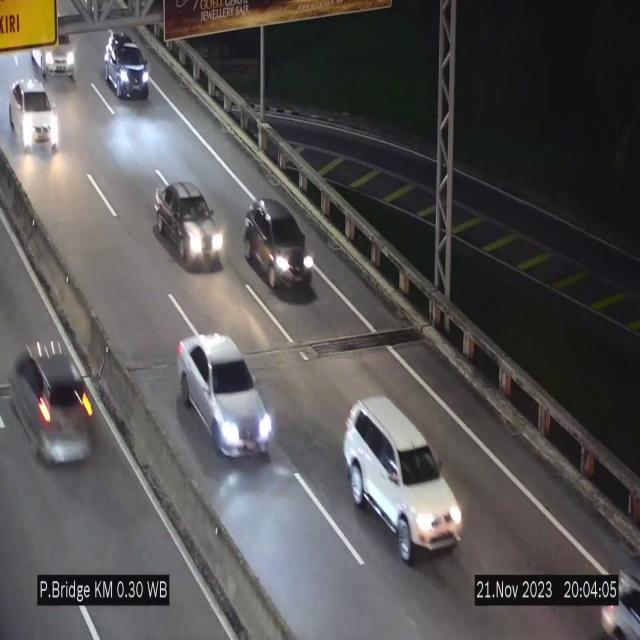Car: (344, 398, 462, 561), (5, 326, 100, 476), (177, 334, 275, 456), (242, 196, 318, 302), (153, 181, 225, 269), (8, 76, 60, 156), (104, 29, 150, 99), (30, 26, 82, 84)
